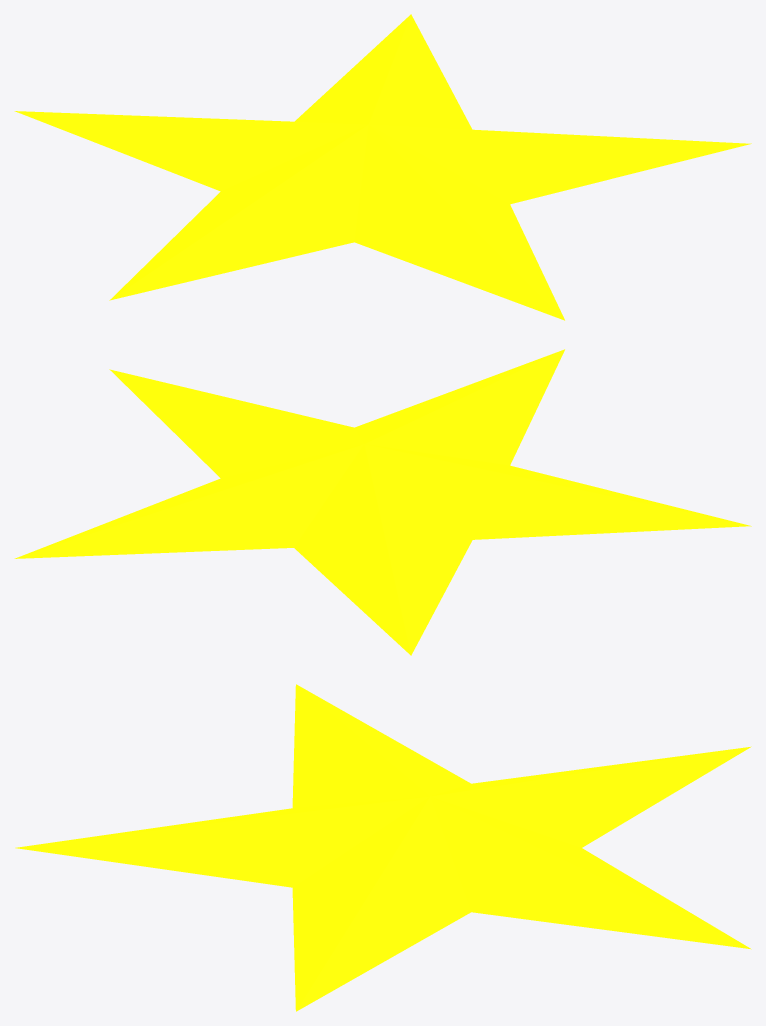
The model's file is star.fbx.
3 renders of one model, top to bottom at view 1: azimuth 30°, elevation 25°; view 2: azimuth 150°, elevation 25°; view 3: azimuth 270°, elevation 25°, orthographic. The views are drawn at different scales.
Parts seen in each view (by area): view 1: Star; view 2: Star; view 3: Star.
Part boxes in pixels (x1,y1,x2,y2): Star: (14,14,751,320); Star: (14,349,751,655); Star: (15,684,751,1011).
Bounding box in the file's own units: 190 × 23.39 × 181.
